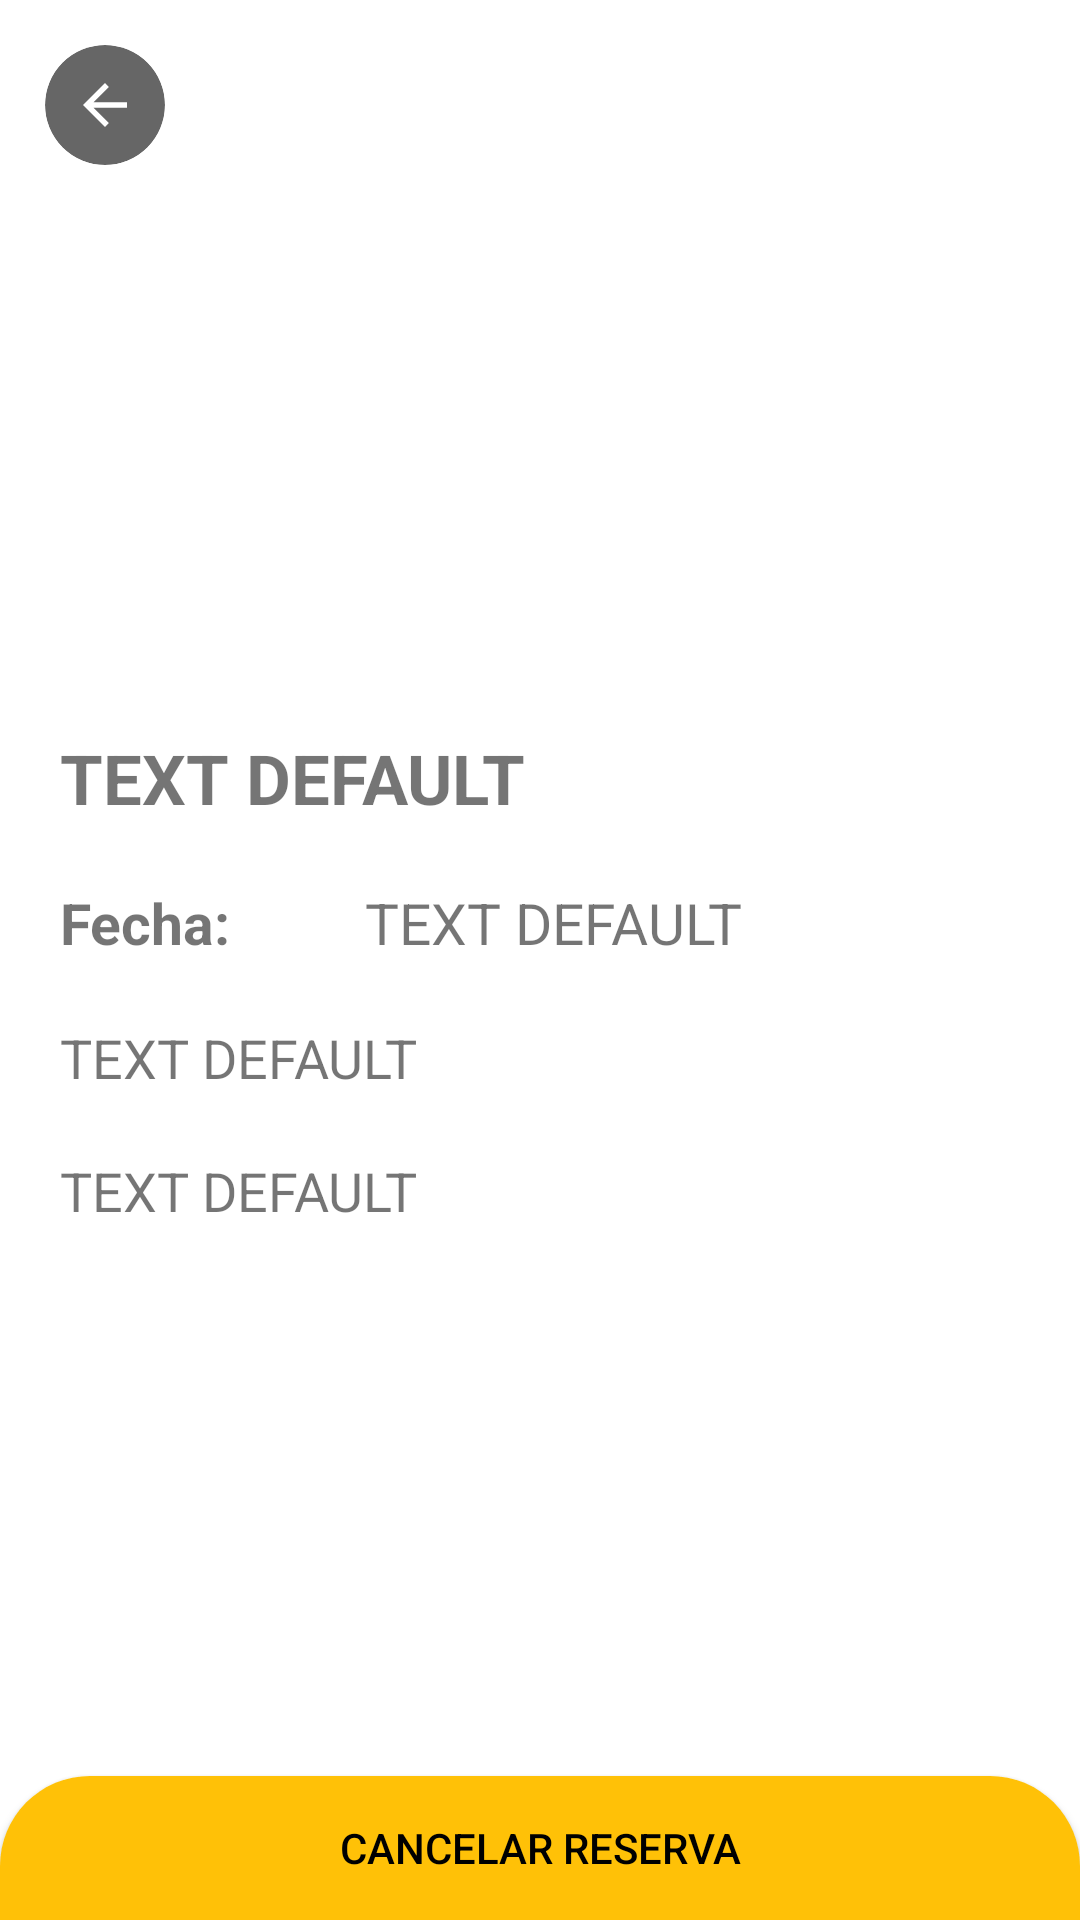

Icons on this 1080px x 1920px Android screen, each with the point to tap as (x,y):
arrow back: (105,105)
